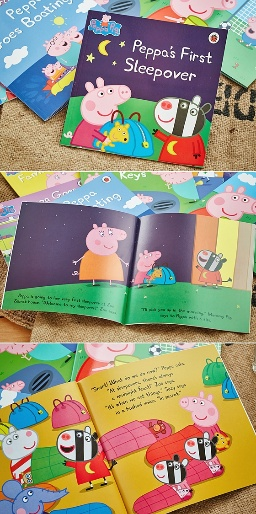Peppa: (69, 78, 135, 147), (186, 182, 256, 223), (178, 392, 228, 443), (131, 246, 164, 288)
